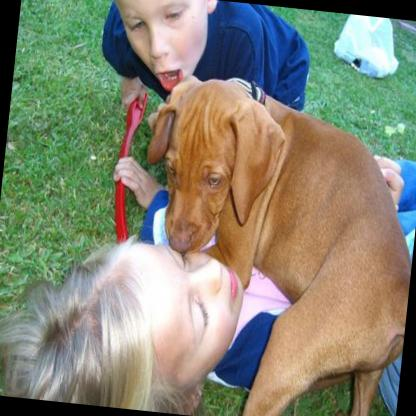vizsla: (115, 66, 416, 416)
